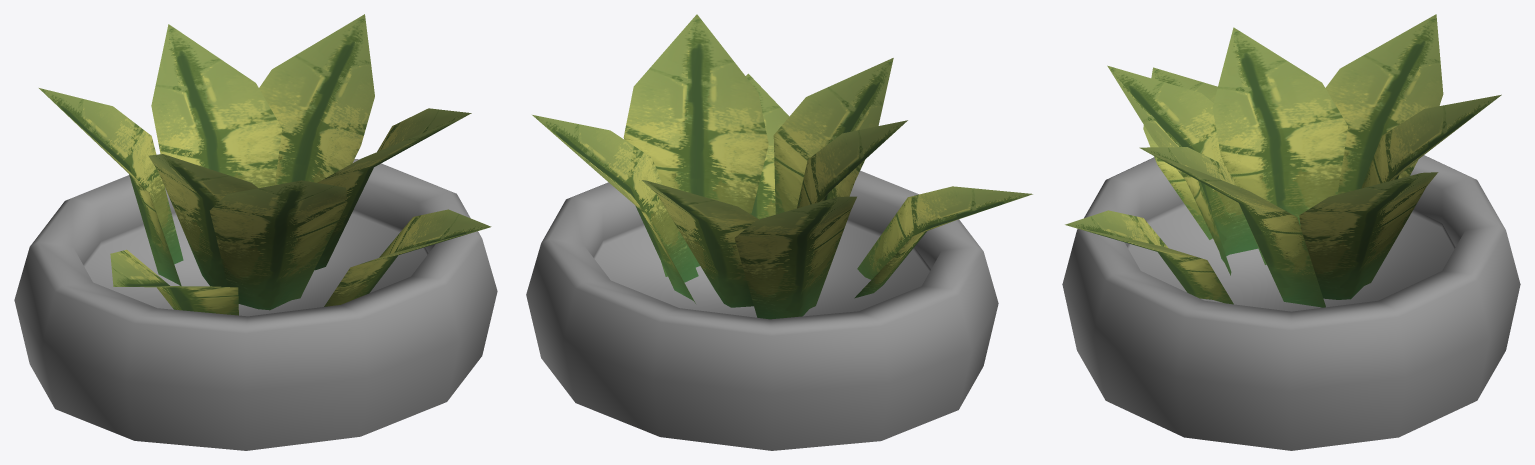
File: V_Tire.FBX
The picture shows the model from 3 angles, left to right: view 1: azimuth 30°, elevation 25°; view 2: azimuth 150°, elevation 25°; view 3: azimuth 270°, elevation 25°; orthographic projection. The views are drawn at different scales.
Visible parts, largest first — view 1: Cylinder005, Plane168; view 2: Cylinder005, Plane168; view 3: Cylinder005, Plane168.
Boxes of the visible parts, <box> form: Cylinder005: <box>14,159,497,450</box>; Plane168: <box>39,14,491,315</box>; Cylinder005: <box>526,170,998,450</box>; Plane168: <box>532,14,1032,319</box>; Cylinder005: <box>1062,155,1520,450</box>; Plane168: <box>1065,14,1501,307</box>.
Size of the model in its own units: 55.64 by 33.1 by 50.23.
